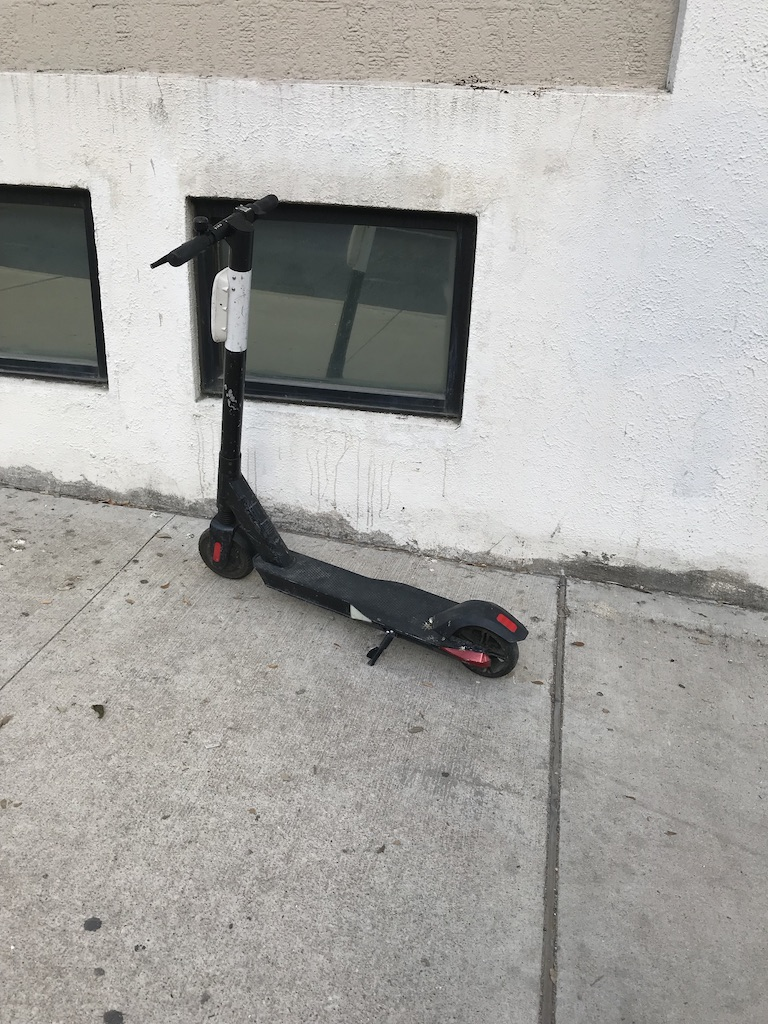scooter: (146, 193, 531, 682)
